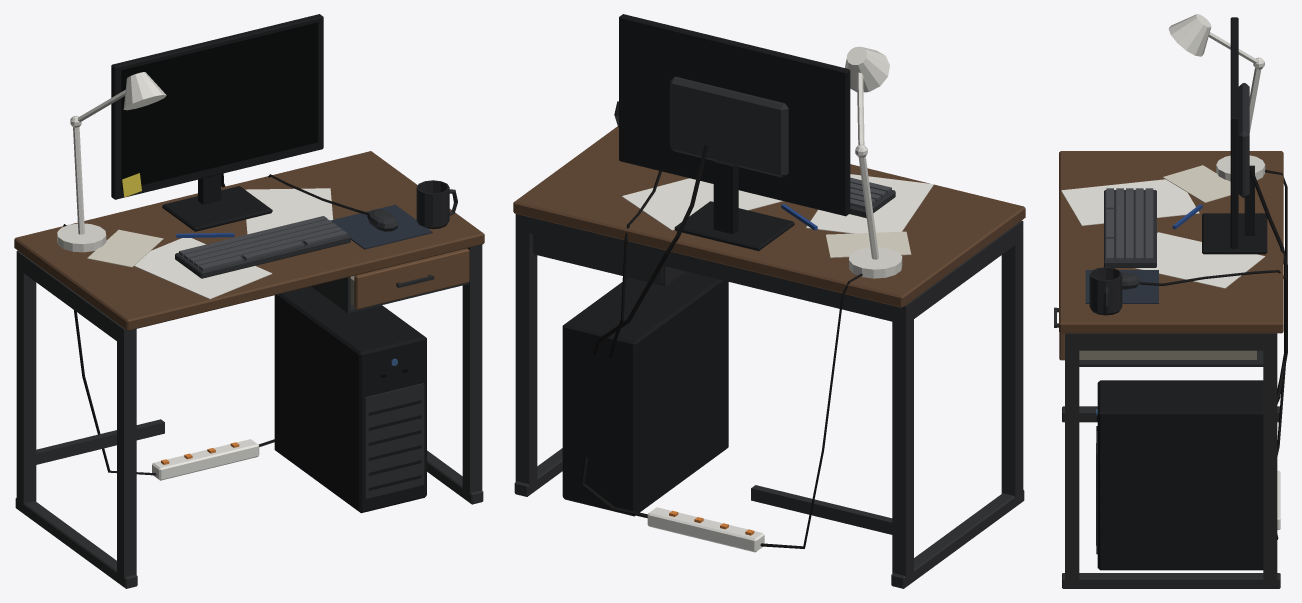
Rendered from desk.glb.
The picture shows the model from 3 angles, left to right: view 1: azimuth 30°, elevation 25°; view 2: azimuth 150°, elevation 25°; view 3: azimuth 270°, elevation 25°; orthographic projection. The views are drawn at different scales.
Parts seen in each view (by area): view 1: body, drawer; view 2: body; view 3: body, drawer.
Boxes of the visible parts, x1,y1,x2,y2 form: body: [14, 14, 484, 588]; drawer: [350, 248, 469, 309]; body: [513, 14, 1025, 588]; body: [1059, 14, 1287, 588]; drawer: [1054, 307, 1256, 360].
Size of the model in its own units: 1 by 1.19 by 0.5725.
